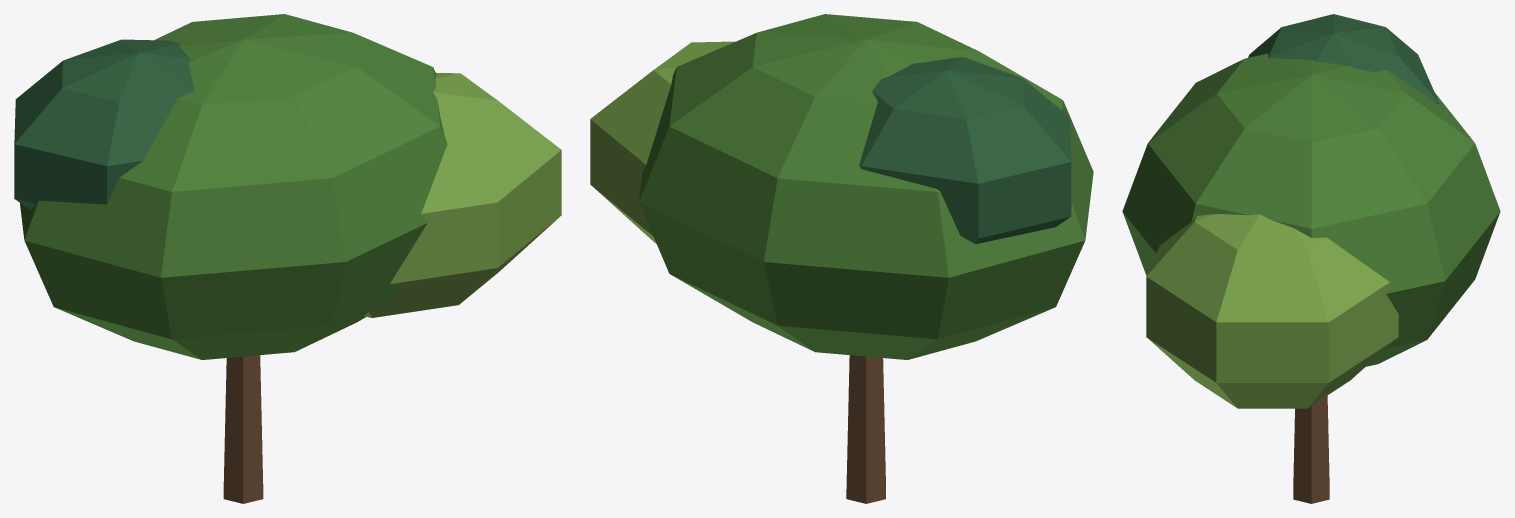
The model's file is TreeWide.obj.
3 views of the same model, side by side, from view 1: azimuth 30°, elevation 25°; view 2: azimuth 150°, elevation 25°; view 3: azimuth 270°, elevation 25° (orthographic). The views are drawn at different scales.
Parts seen in each view (by area): view 1: TreeWide; view 2: TreeWide; view 3: TreeWide.
Part boxes in pixels (bbox=[...]): TreeWide: bbox=[14, 14, 561, 503]; TreeWide: bbox=[590, 14, 1093, 503]; TreeWide: bbox=[1122, 14, 1500, 503].
Size of the model in its own units: 4.66 by 4.17 by 3.4.
